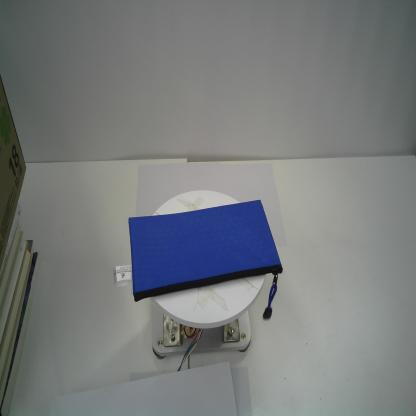Stationery: (112, 198, 284, 323)
